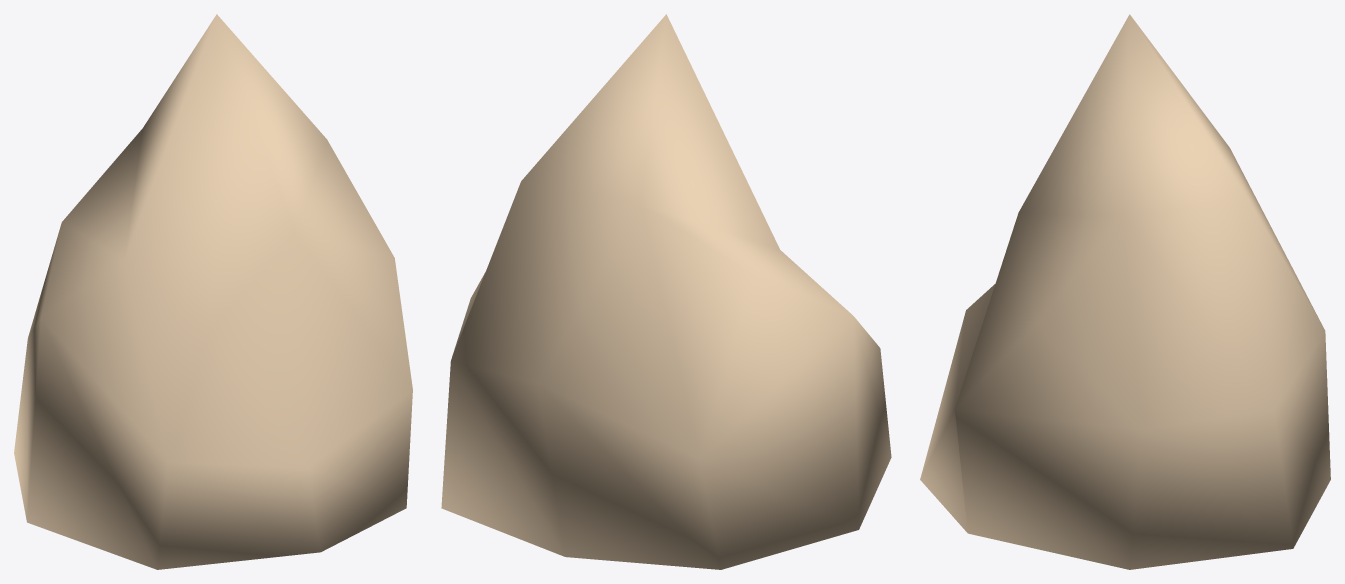
Rendered from scene_4_spike.fbx.
3 views of the same model, side by side, from view 1: azimuth 30°, elevation 25°; view 2: azimuth 150°, elevation 25°; view 3: azimuth 270°, elevation 25° (orthographic).
Visible parts, largest first — view 1: Cube; view 2: Cube; view 3: Cube.
Boxes of the visible parts, x1,y1,x2,y2 form: Cube: (14,14,412,569); Cube: (441,14,891,569); Cube: (920,14,1330,569).
Size of the model in its own units: 2.68 by 3.14 by 2.51.
